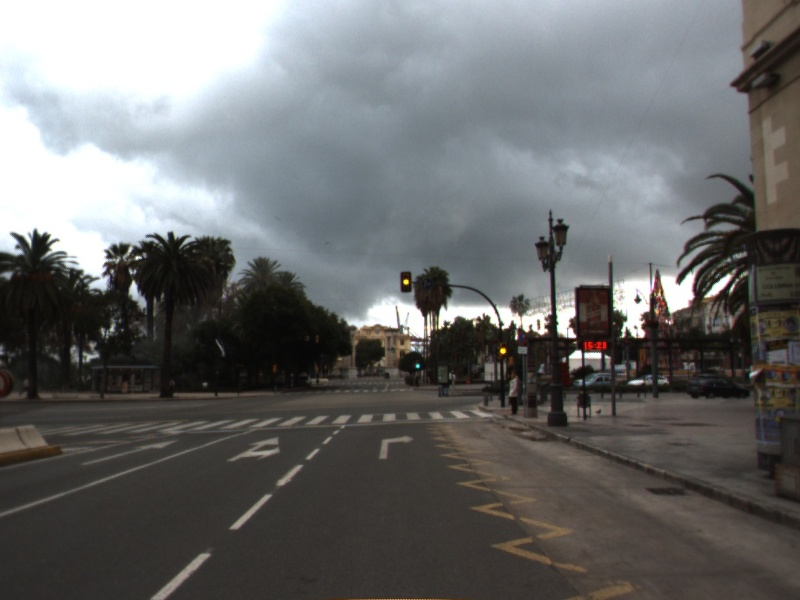RIGHT: (377, 432, 417, 461)
STRAIGHT: (78, 437, 182, 467)
STRAIGHT_RIGHT: (224, 434, 283, 463)
